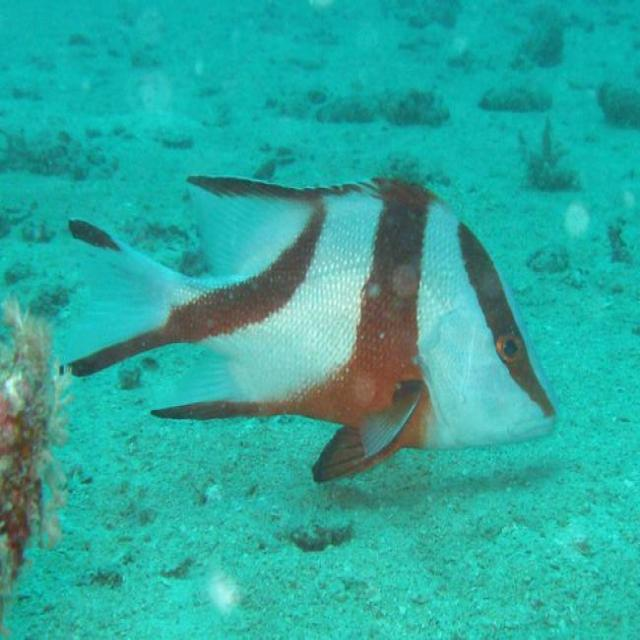ikan: (57, 169, 558, 485)
